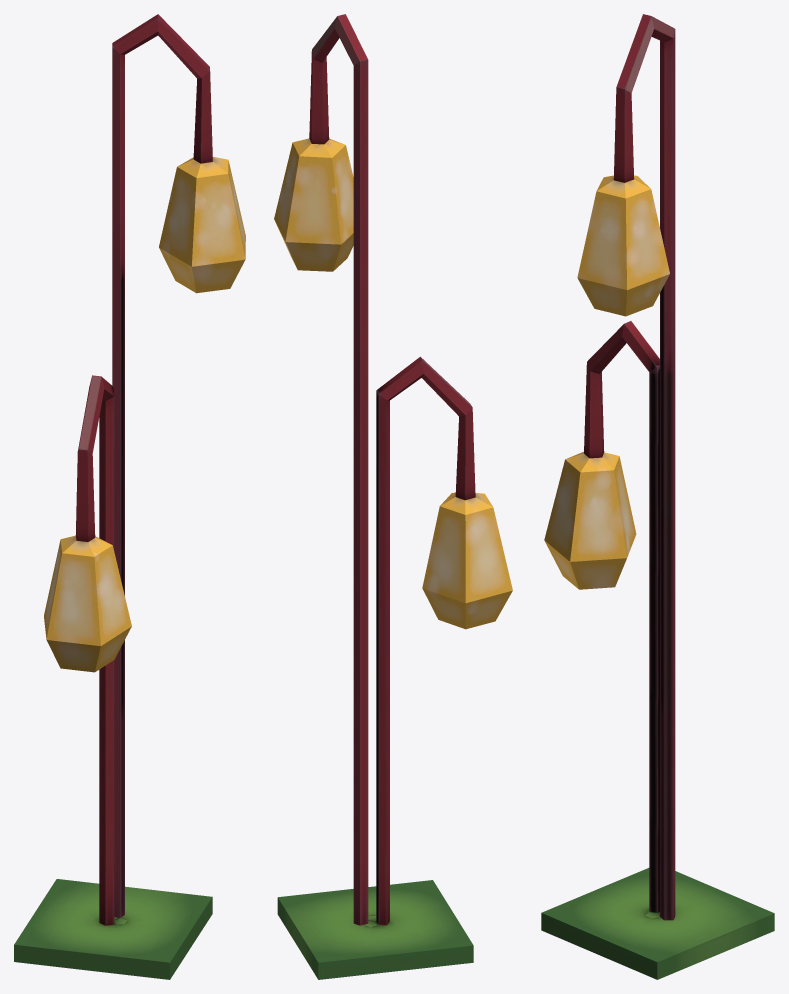
Rendered from lamp-stand.glb.
The picture shows the model from 3 angles, left to right: view 1: azimuth 30°, elevation 25°; view 2: azimuth 150°, elevation 25°; view 3: azimuth 270°, elevation 25°; orthographic projection. The views are drawn at different scales.
Parts seen in each view (by area): view 1: Lamp_Stand; view 2: Lamp_Stand; view 3: Lamp_Stand.
Boxes of the visible parts, x1,y1,x2,y2 form: Lamp_Stand: [14, 14, 245, 979]; Lamp_Stand: [274, 14, 512, 979]; Lamp_Stand: [541, 14, 774, 979].
Bounding box in the file's own units: 0.4703 × 1.87 × 0.4232.
1 material, 1 textured.
